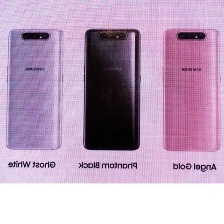phone: (158, 24, 224, 154), (79, 24, 145, 152), (4, 25, 66, 153)
